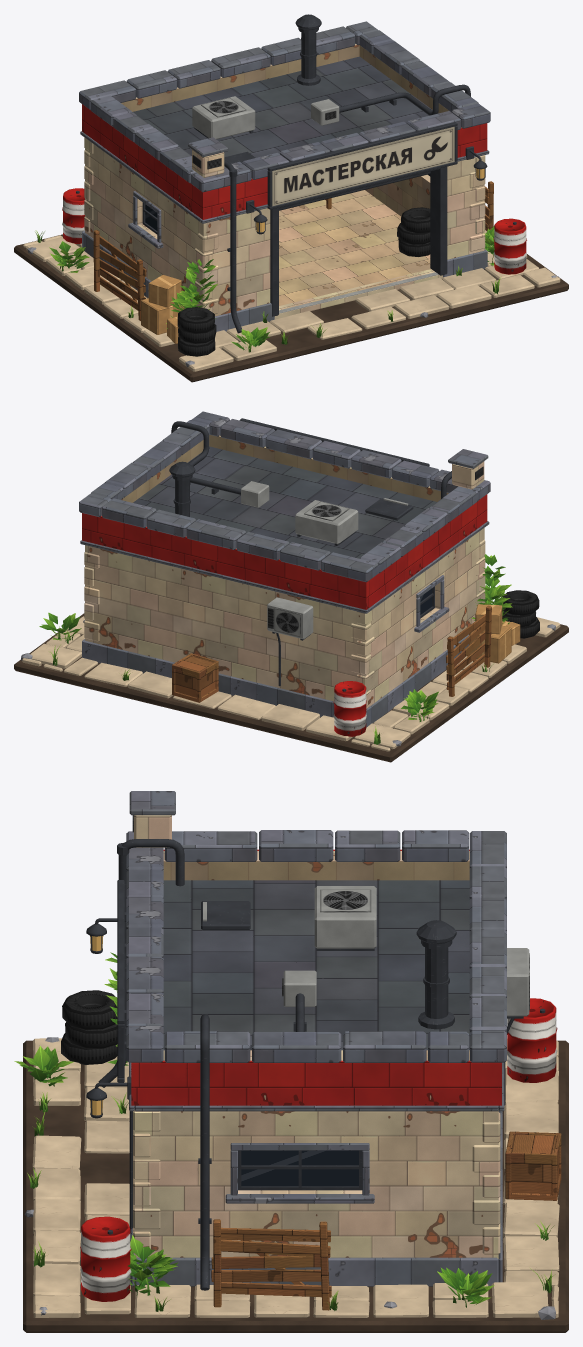
Rendered from Workshop.fbx.
3 views of the same model, one above another, from view 1: azimuth 30°, elevation 25°; view 2: azimuth 150°, elevation 25°; view 3: azimuth 270°, elevation 25° (orthographic). The views are drawn at different scales.
Parts seen in each view (by area): view 1: Workshop_Building, Workshop_Ground, Workshop_Vegetation, Prop_Fence_L, Prop_Boxes_Out, Prop_Barrel, Prop_TireStack_Out, Prop_TireStack_In, Prop_Barrel_Back; view 2: Workshop_Building, Workshop_Ground, Workshop_Vegetation, Prop_Fence_L, Prop_Crate_Back, Prop_Barrel_Back, Prop_Boxes_Out, Prop_TireStack_Out; view 3: Workshop_Building, Workshop_Ground, Prop_Fence_R, Workshop_Vegetation, Prop_Barrel, Prop_Crate_Back, Prop_TireStack_Out, Prop_Barrel_Back.
Boxes of the visible parts, x1,y1,x2,y2 form: Workshop_Building: (79,14,490,333); Workshop_Ground: (14,230,568,382); Workshop_Vegetation: (35,226,500,352); Prop_Fence_L: (93,230,146,320); Prop_Boxes_Out: (141,275,184,343); Prop_Barrel: (493,218,526,274); Prop_TireStack_Out: (177,307,216,356); Prop_TireStack_In: (397,207,430,256); Prop_Barrel_Back: (62,188,84,243); Workshop_Building: (79,411,490,727); Workshop_Ground: (14,613,568,762); Workshop_Vegetation: (39,554,512,744); Prop_Fence_L: (446,605,491,696); Prop_Crate_Back: (172,653,218,702); Prop_Barrel_Back: (333,681,366,736); Prop_Boxes_Out: (469,604,520,663); Prop_TireStack_Out: (501,590,539,638); Workshop_Building: (86,791,529,1290); Workshop_Ground: (23,1037,568,1332); Prop_Fence_R: (211,1219,331,1310); Workshop_Vegetation: (14,952,555,1311); Prop_Barrel: (80,1216,131,1301); Prop_Crate_Back: (505,1131,561,1200); Prop_TireStack_Out: (61,990,117,1064); Prop_Barrel_Back: (507,998,557,1082).
Bounding box in the file's own units: 8.24 × 4.23 × 6.71.
24 materials, 24 textured.
